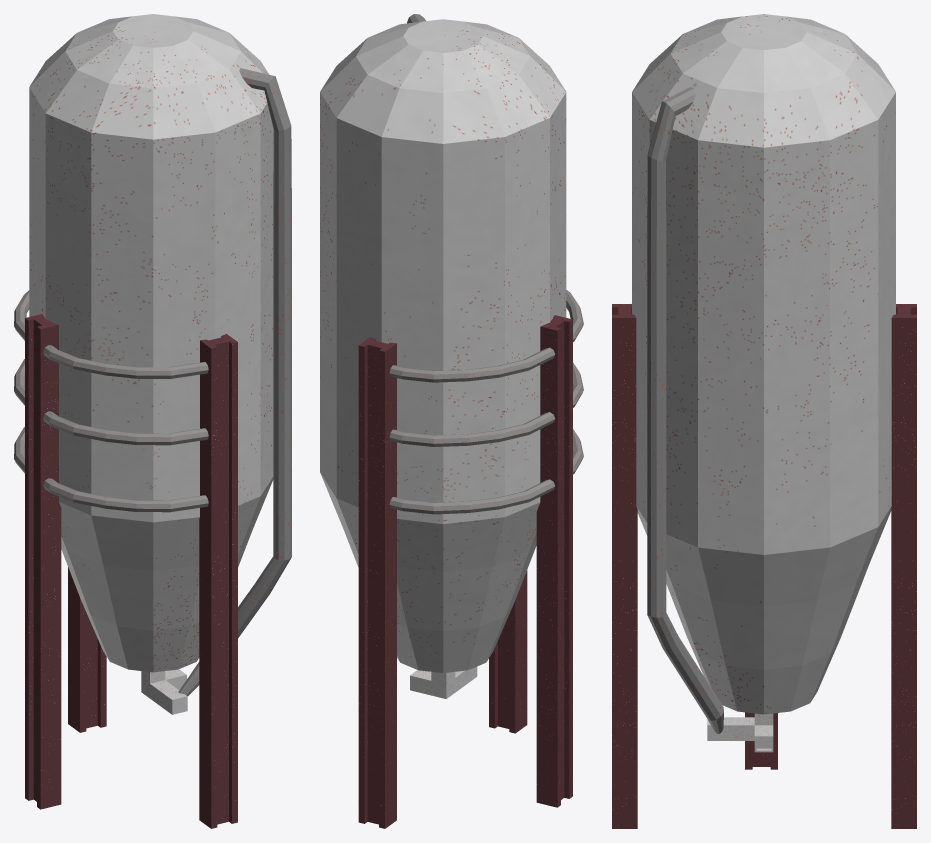
File: sillo.fbx
The picture shows the model from 3 angles, left to right: view 1: azimuth 30°, elevation 25°; view 2: azimuth 150°, elevation 25°; view 3: azimuth 270°, elevation 25°; orthographic projection. The views are drawn at different scales.
Visible parts, largest first — view 1: pCylinder15; view 2: pCylinder15; view 3: pCylinder15.
Boxes of the visible parts, x1,y1,x2,y2 form: pCylinder15: (14,14,291,828); pCylinder15: (320,14,583,828); pCylinder15: (612,14,916,828).
Bounding box in the file's own units: 137 × 425 × 149.
